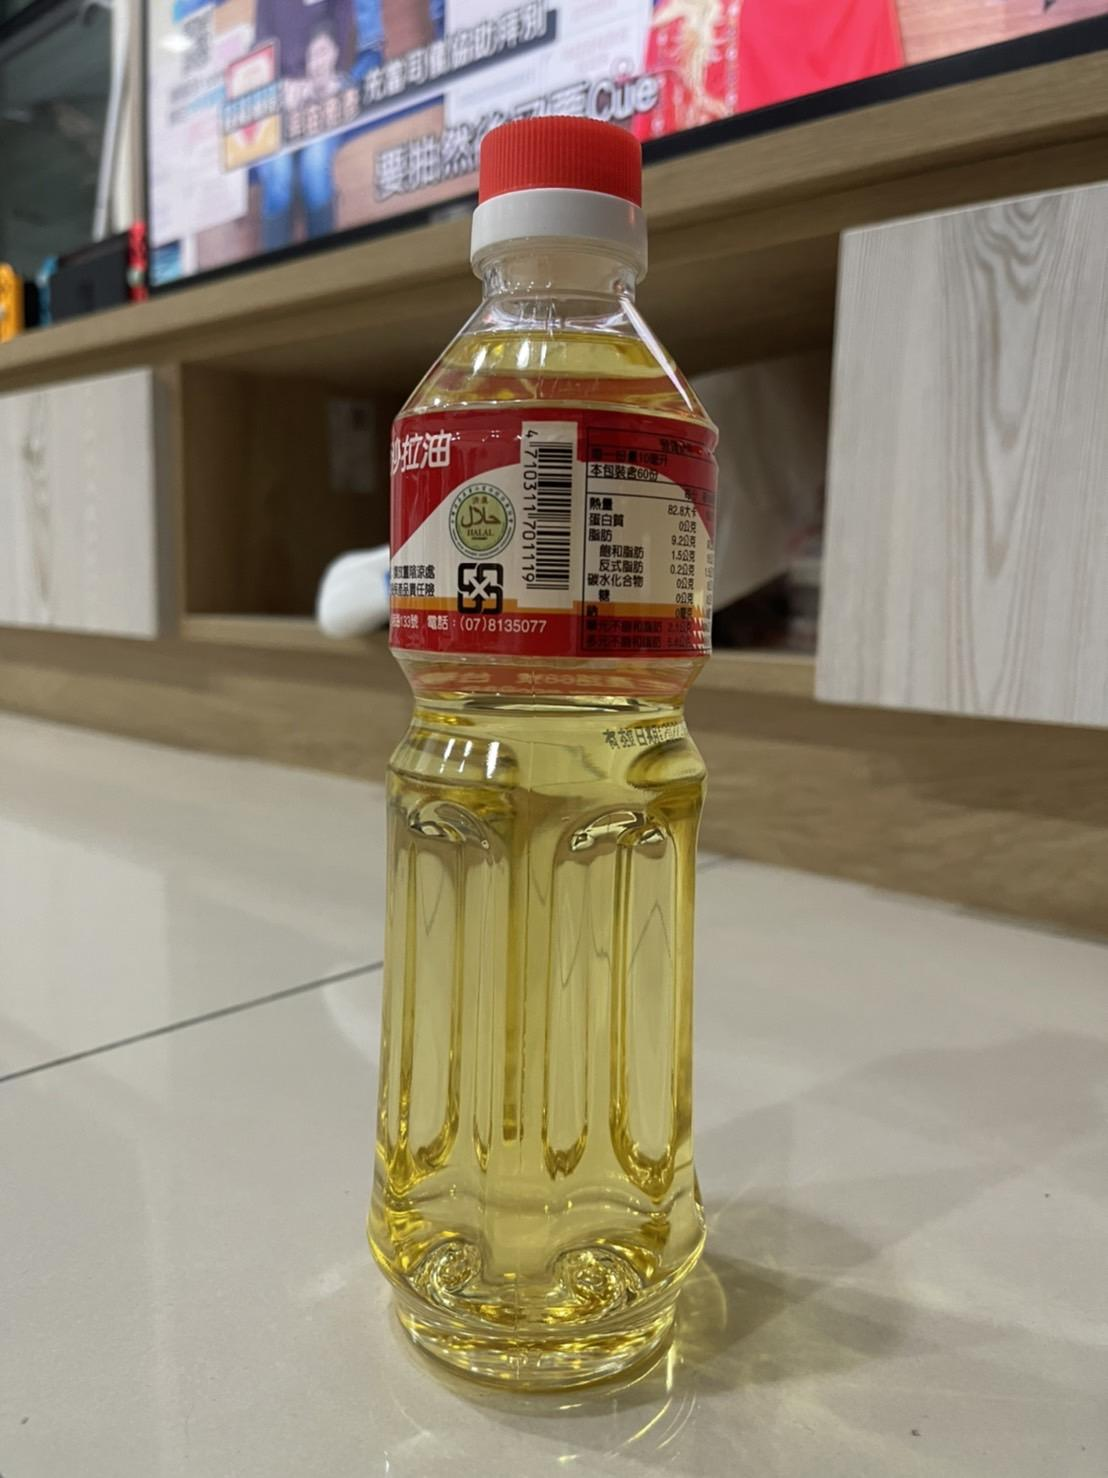plastic_bottle: (329, 106, 747, 1400)
